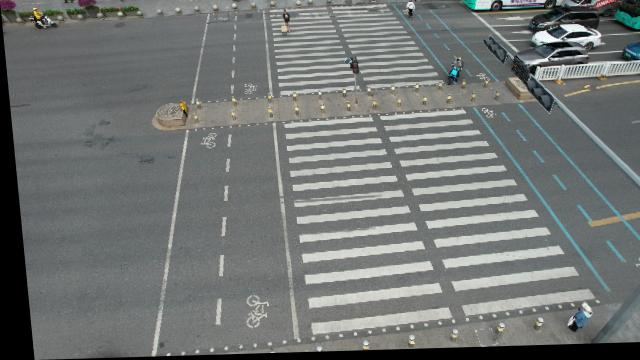non-motor-vehicle: (27, 5, 58, 33), (443, 56, 466, 89)
person: (556, 301, 588, 338), (281, 7, 293, 36), (404, 0, 417, 24)
